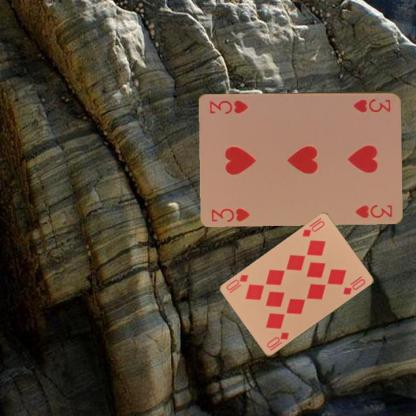10d: (264, 330, 290, 352), (300, 218, 326, 238)
3h: (209, 205, 251, 223), (350, 96, 392, 113)
